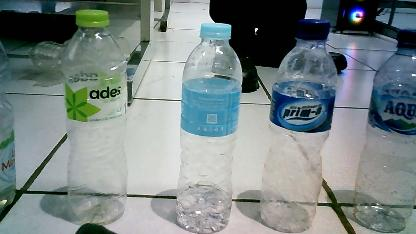Plastic Bottle: (263, 16, 339, 234), (63, 8, 130, 226), (176, 23, 244, 234), (352, 29, 416, 234)
